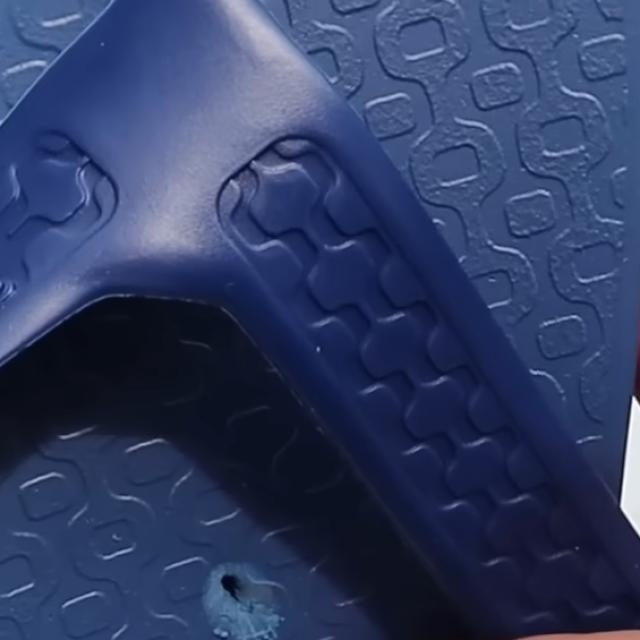bullets: (198, 558, 296, 640)
